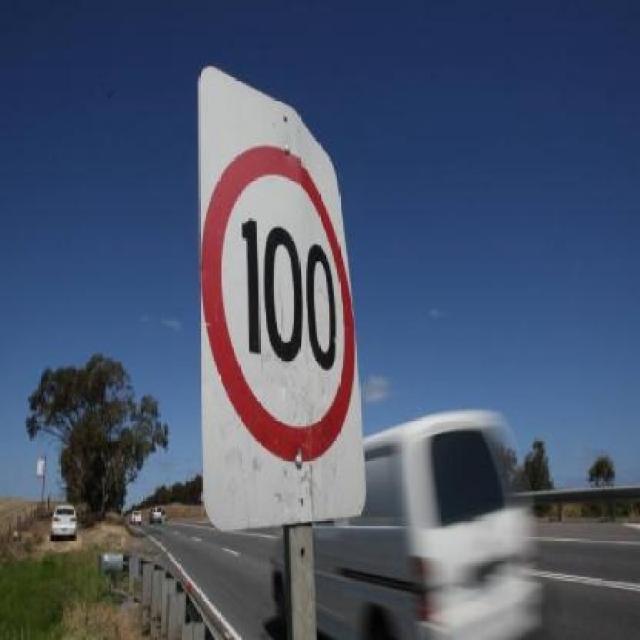forb_speed_over_100: (200, 149, 366, 418)
